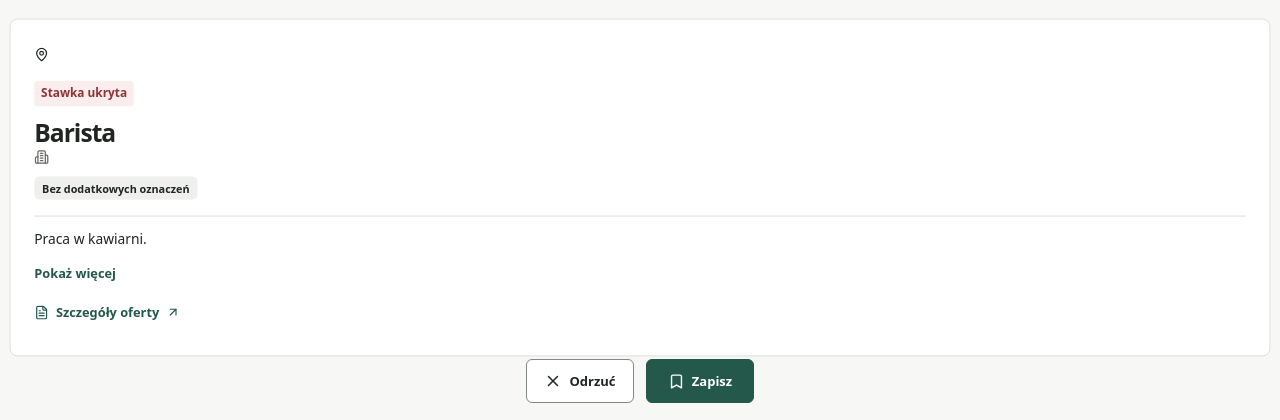
Test case: swipe card transitions › toggles the full description inline without swiping and resets for the next job
The image size is (1280, 420).
Expected: the text "Praca w kawiarni." is shown, [34, 230, 147, 248]
Click the button with class "job-description-toggle" at (75, 273), box [34, 253, 116, 293]
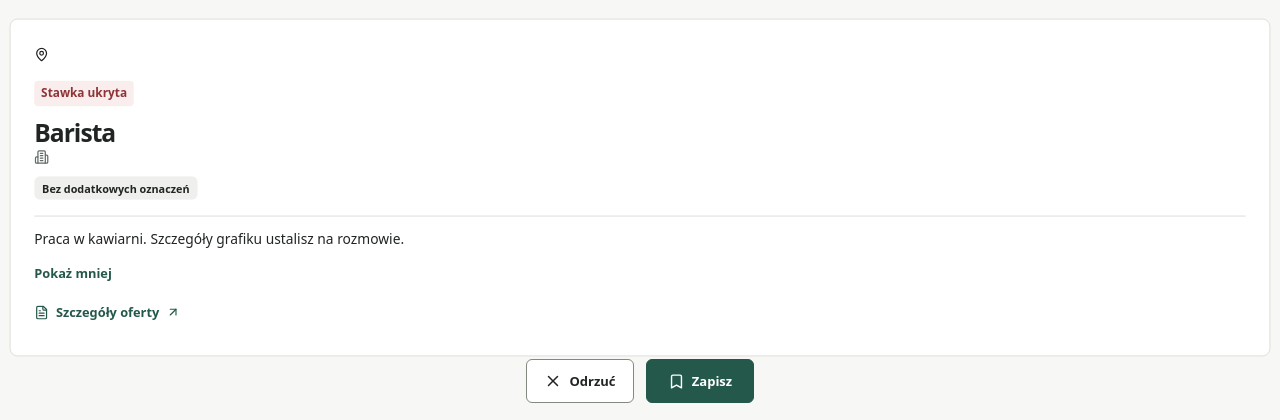
Now the button with class "job-description-toggle" reads "Pokaż mniej", box [34, 253, 112, 293]
Now the button with class "job-description-toggle" is expanded, box [34, 253, 112, 293]
Now the text "Praca w kawiarni. Szczegóły grafiku ustalisz na rozmowie." is shown
Press the mouse on the text "Praca w kawiarni. Szczegóły grafiku ustalisz na rozmowie." at (219, 239), box [34, 230, 404, 248]
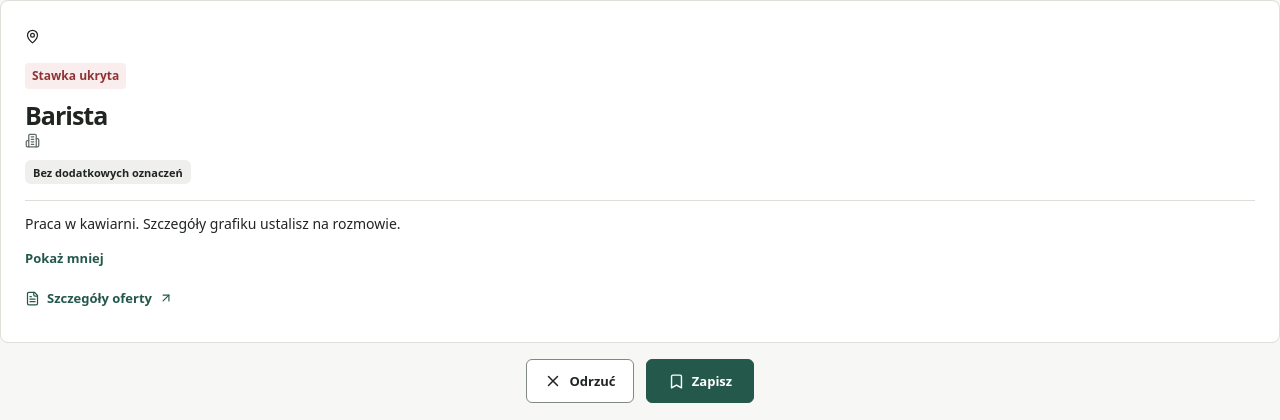
Click the button with class "job-description-toggle" at (64, 258), box [25, 238, 104, 278]
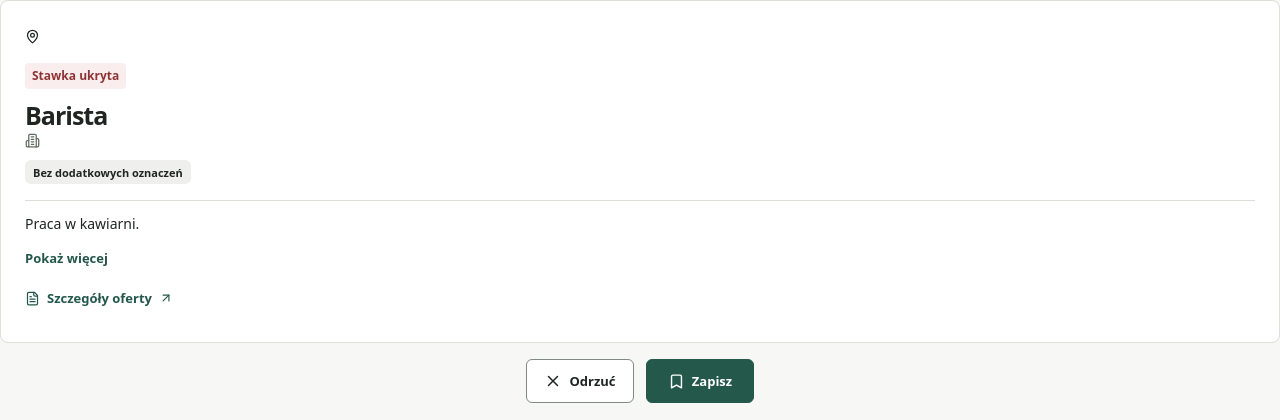
Expected: the text "Praca w kawiarni." is shown, [25, 214, 139, 233]
Now the button with class "job-description-toggle" is collapsed
Click the button with class "job-description-toggle" at (66, 258), box [25, 238, 108, 278]
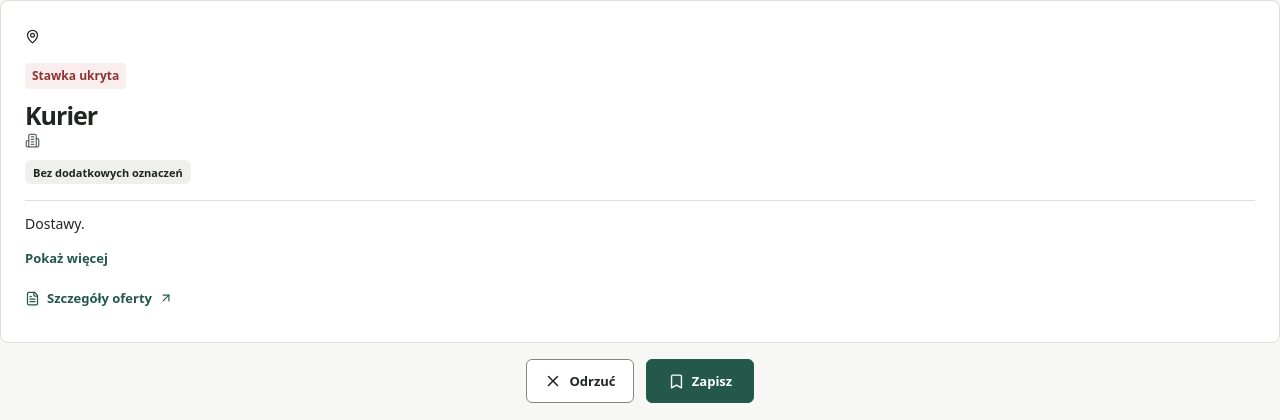
Now the button with class "job-description-toggle" is collapsed, box [25, 238, 108, 278]
Now the text with class "job-description-preview" reads "Dostawy.", box [25, 214, 85, 233]
